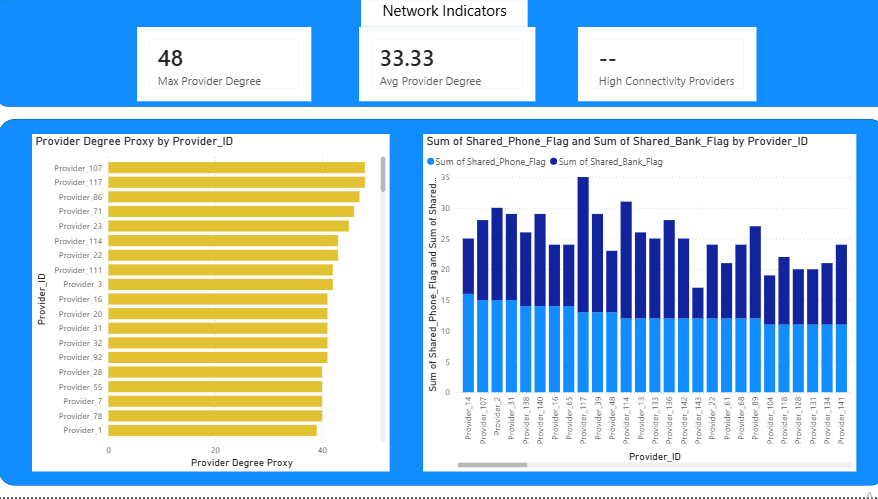

The dashboard page shown, as its layout file describes it:
{"tool":"powerbi","page":{"name":"Network Indicators","canvas":[1280,720],"ordinal":3},"visuals":[{"type":"shape","box":[0,0,1280.2,158.4],"z":0},{"type":"textbox","box":[522.7,0,240.5,43.2],"z":1000},{"type":"cardVisual","fields":{"Data":["Insurance_Fraud_Network_Dataset_5000_Leads.Max Provider Degree"]},"box":[199.6,43.5,250.6,106.5],"z":2000},{"type":"cardVisual","fields":{"Data":["Insurance_Fraud_Network_Dataset_5000_Leads.Avg Provider Degree"]},"box":[519.2,43.5,253.6,106.5],"z":3000},{"type":"cardVisual","fields":{"Data":["Insurance_Fraud_Network_Dataset_5000_Leads.High Connectivity Providers"]},"box":[835.8,43.5,256.6,106.5],"z":4000},{"type":"shape","box":[0,175.6,1280,528.2],"z":5000},{"type":"barChart","fields":{"Y":["Insurance_Fraud_Network_Dataset_5000_Leads.Provider Degree Proxy"],"Category":["Insurance_Fraud_Network_Dataset_5000_Leads.Provider_ID"]},"box":[49.5,196.6,514.7,486.2],"z":6001},{"type":"columnChart","fields":{"Category":["Insurance_Fraud_Network_Dataset_5000_Leads.Provider_ID"],"Y":["Sum(Insurance_Fraud_Network_Dataset_5000_Leads.Shared_Phone_Flag)","Sum(Insurance_Fraud_Network_Dataset_5000_Leads.Shared_Bank_Flag)"]},"box":[612.2,196.6,624.2,486.2],"z":6002}]}

Visuals, with their boxes in screenshot pixels (x1, y1, x2, y2), scaled from the page's 1280x720 canvas onto the 878x499 screenshot:
shape: left=0, top=0, right=877, bottom=110
textbox: left=359, top=0, right=524, bottom=30
cardVisual - Insurance_Fraud_Network_Dataset_5000_Leads.Max Provider Degree: left=137, top=30, right=309, bottom=104
cardVisual - Insurance_Fraud_Network_Dataset_5000_Leads.Avg Provider Degree: left=356, top=30, right=530, bottom=104
cardVisual - Insurance_Fraud_Network_Dataset_5000_Leads.High Connectivity Providers: left=573, top=30, right=749, bottom=104
shape: left=0, top=122, right=877, bottom=488
barChart - Insurance_Fraud_Network_Dataset_5000_Leads.Provider Degree Proxy x Insurance_Fraud_Network_Dataset_5000_Leads.Provider_ID: left=34, top=136, right=387, bottom=473
columnChart - Insurance_Fraud_Network_Dataset_5000_Leads.Provider_ID x Sum(Insurance_Fraud_Network_Dataset_5000_Leads.Shared_Phone_Flag): left=420, top=136, right=848, bottom=473
